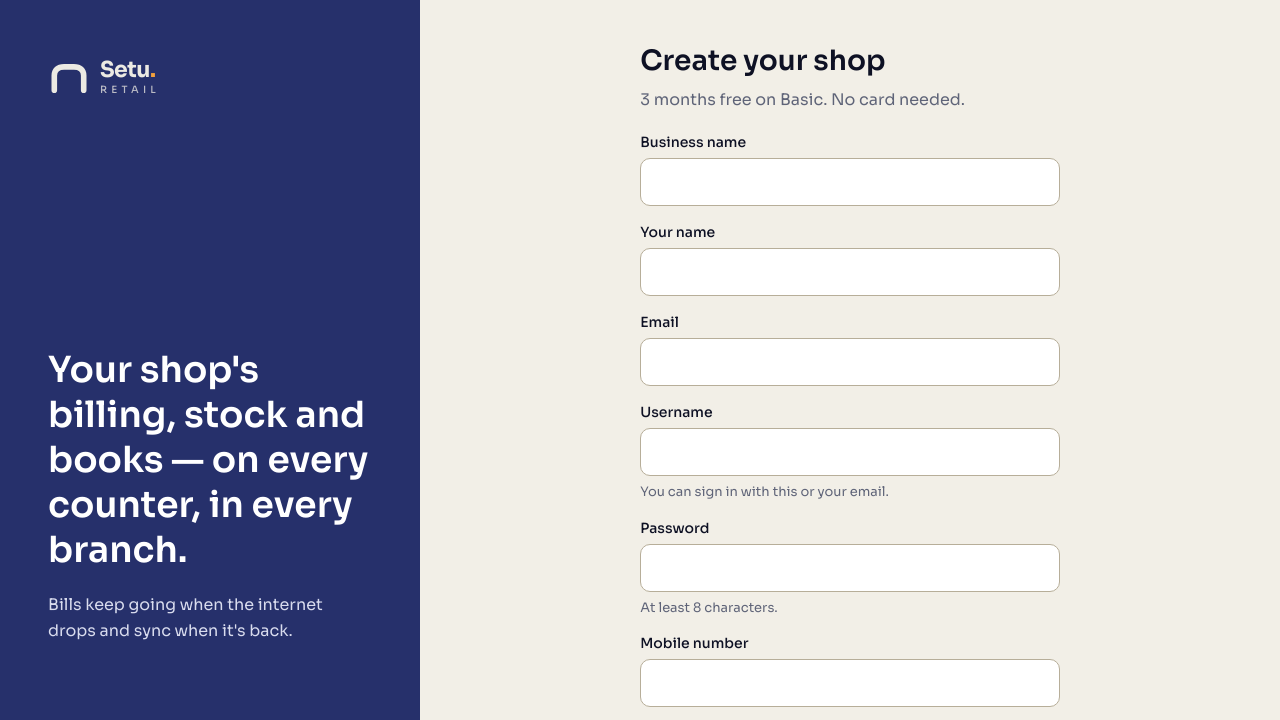
Test: sign up › creates the account and asks to check email
In the field labelled "Business name": (850, 182) [640,158,1060,206], type "Sharma Stores"
In the field labelled "Your name": (850, 272) [640,248,1060,296], type "Anil"
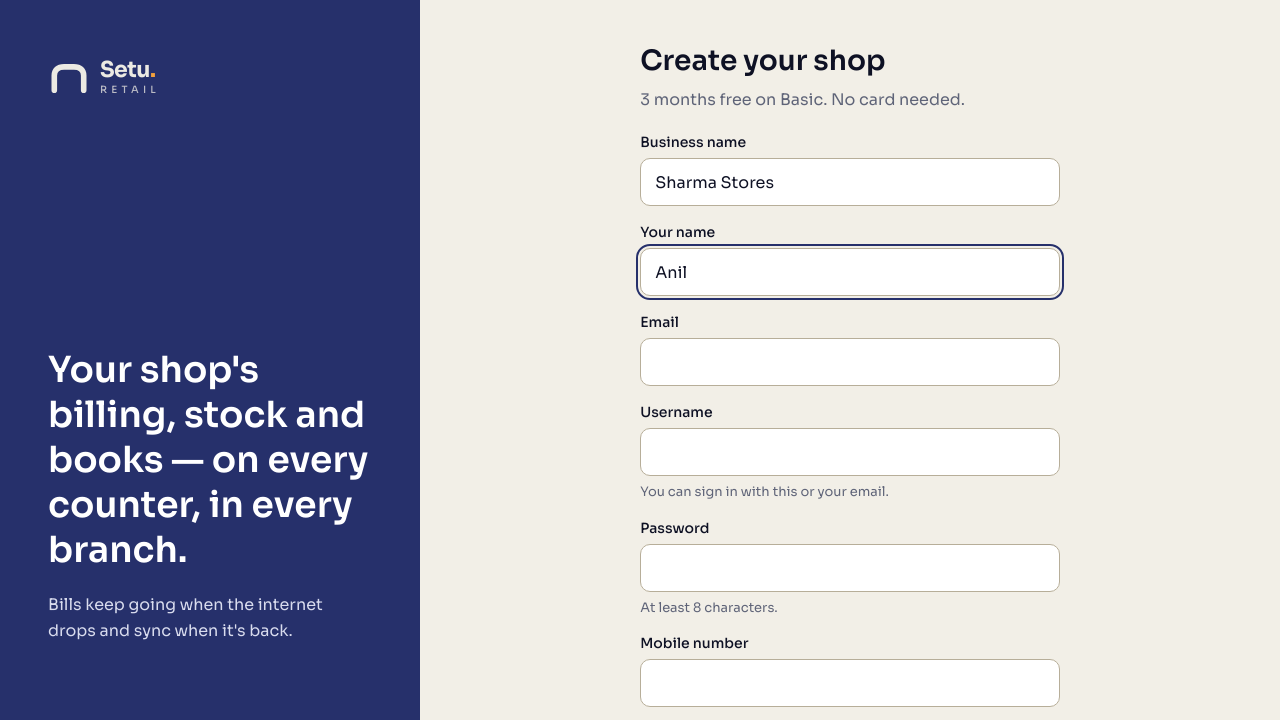
In the field labelled "Email": (850, 362) [640,338,1060,386], type "a@x.com"
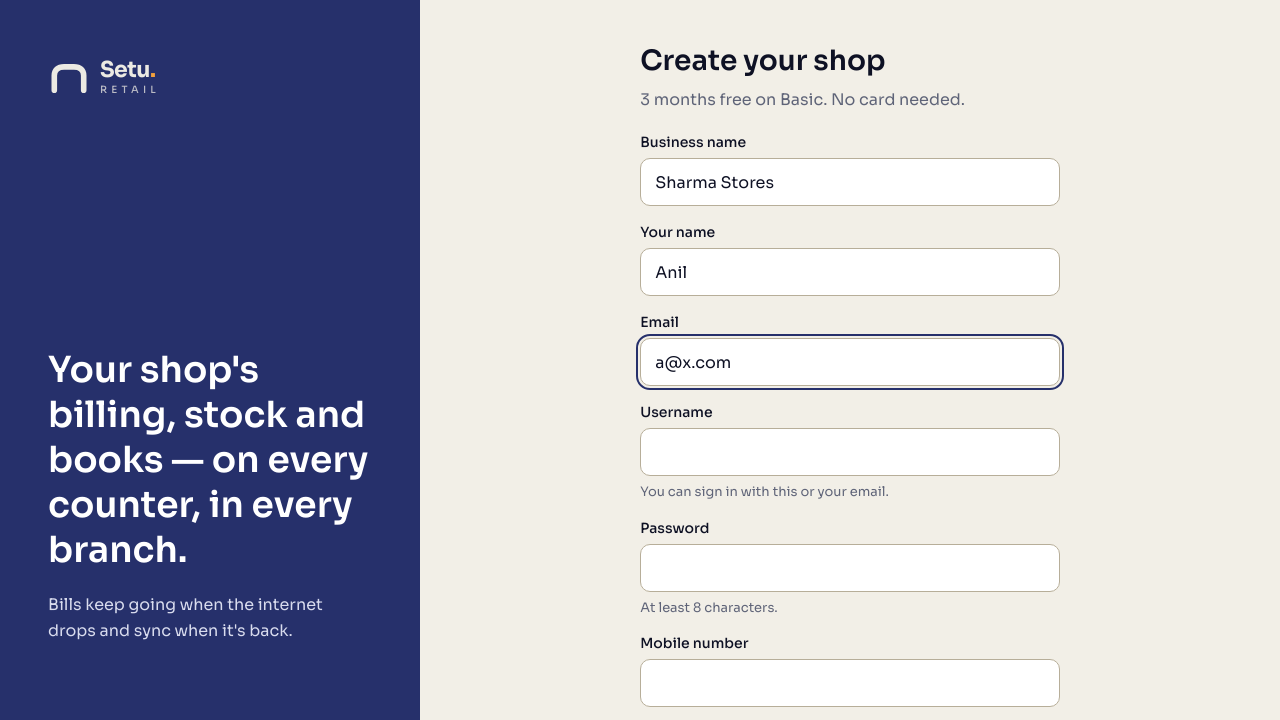
In the field labelled "Username": (850, 452) [640,428,1060,476], type "anil"
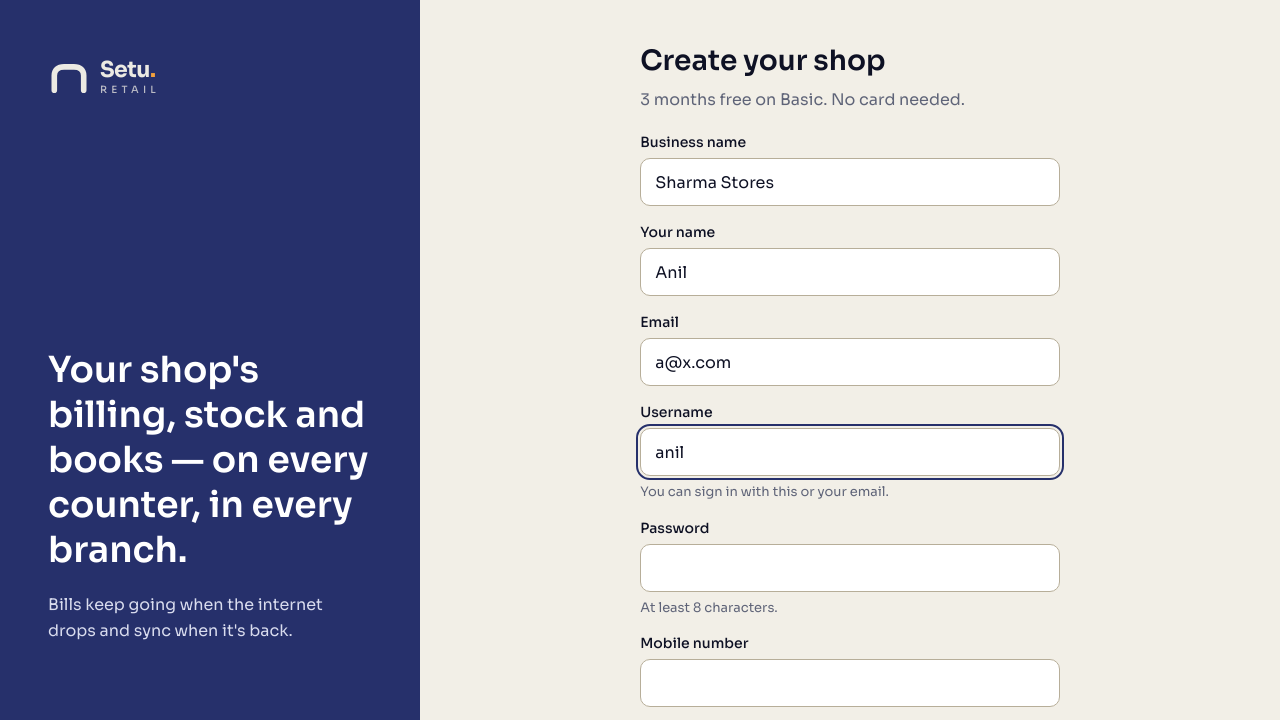
In the password field labelled "Password": (850, 568) [640,544,1060,592], type "s3cret-pass"
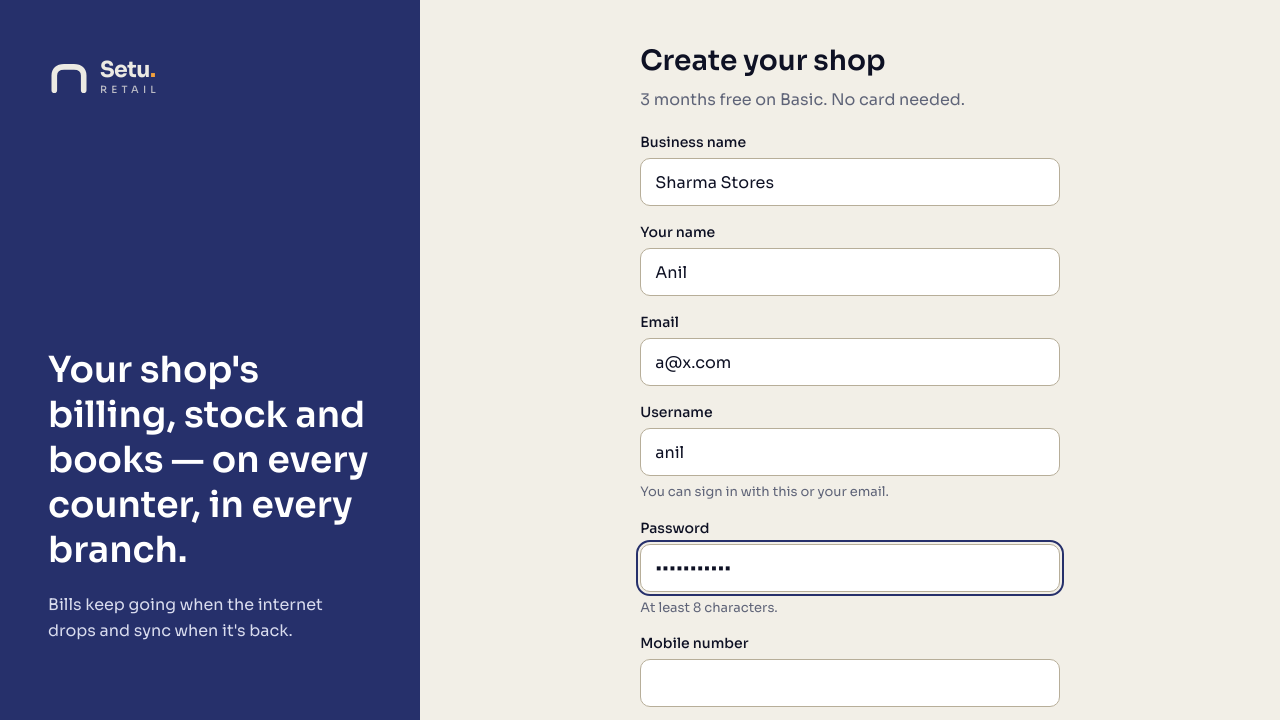
In the field labelled "Mobile number": (850, 683) [640,659,1060,707], type "9876543210"
(page scrolled)
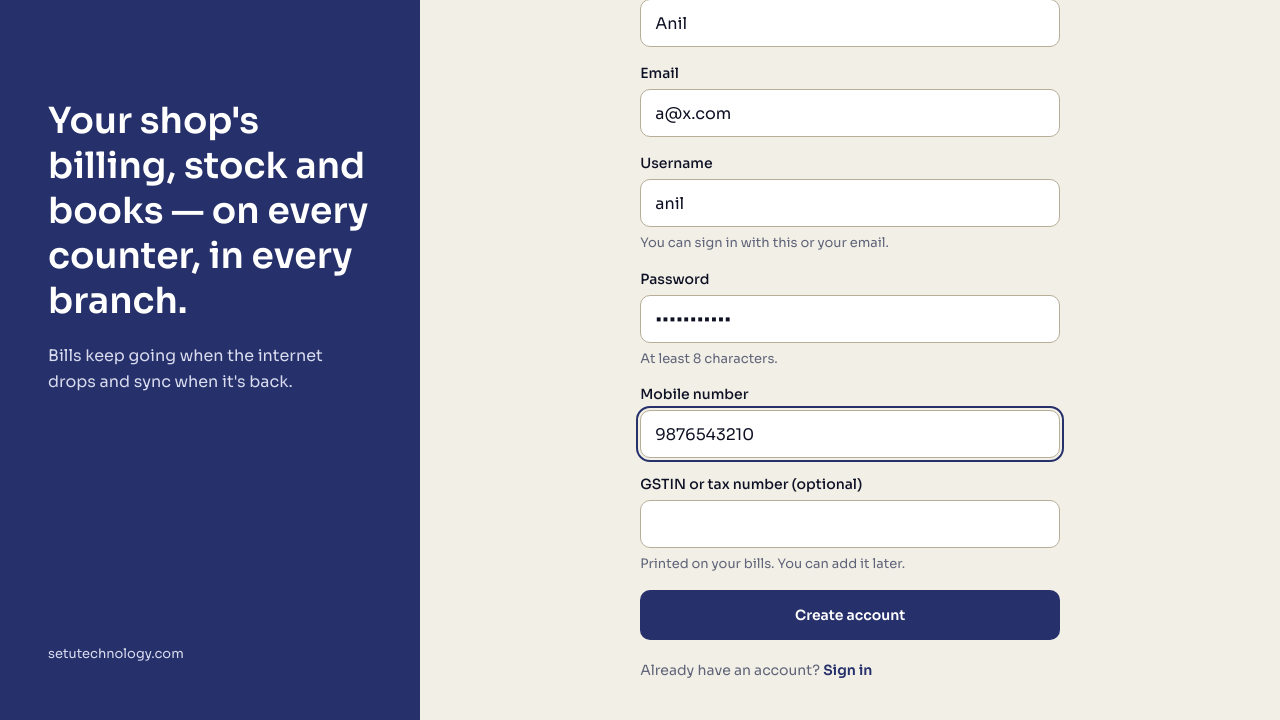
Click the button "Create account": (850, 614) [640,590,1060,640]
(page scrolled)
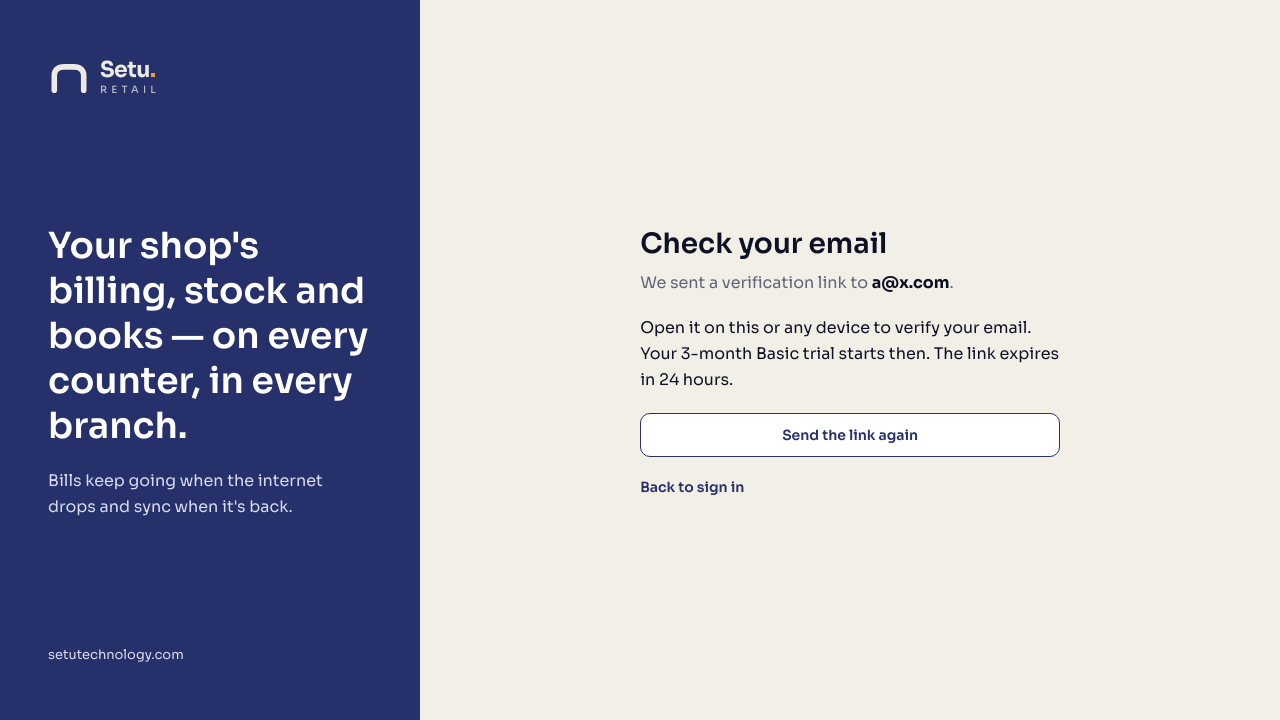
Expected: the heading "Check your email" is shown, [640,226,887,261]
